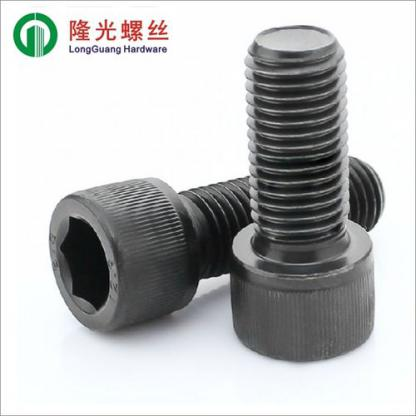FOD: (46, 144, 387, 338), (227, 21, 377, 368)
